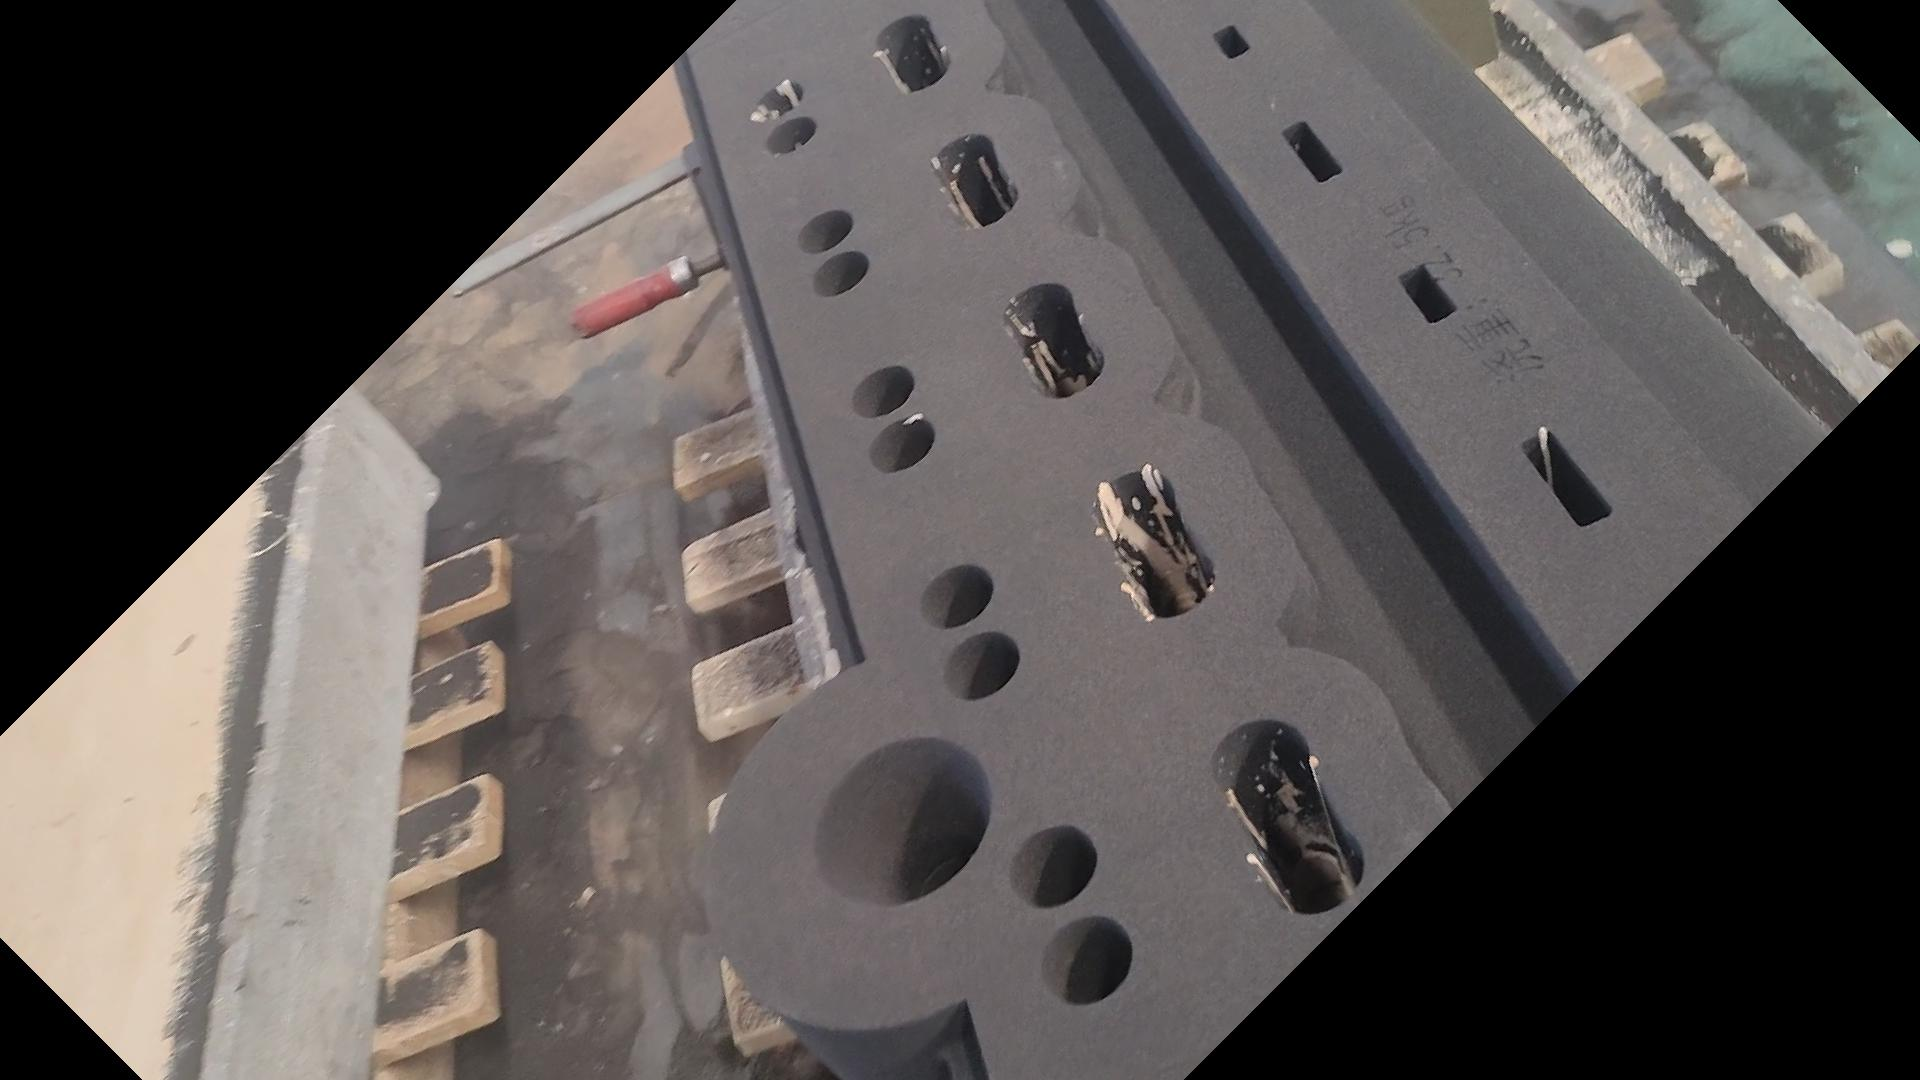pouring hole: (810, 735, 993, 909)
